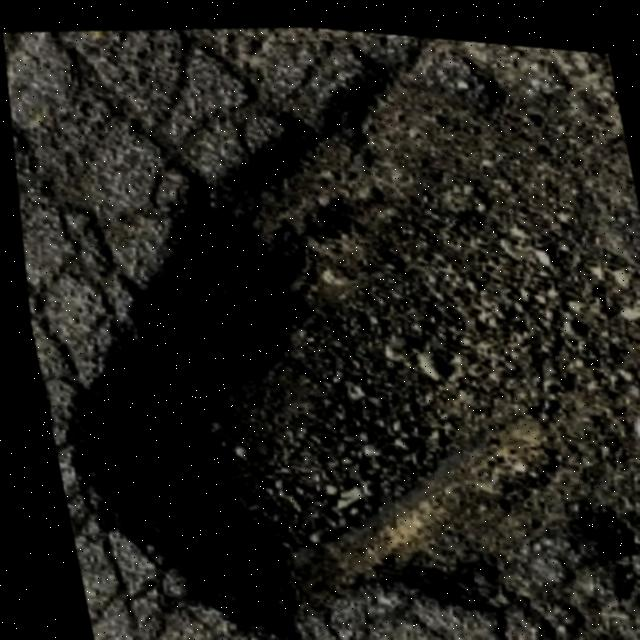Pothole: (8, 110, 640, 640)
